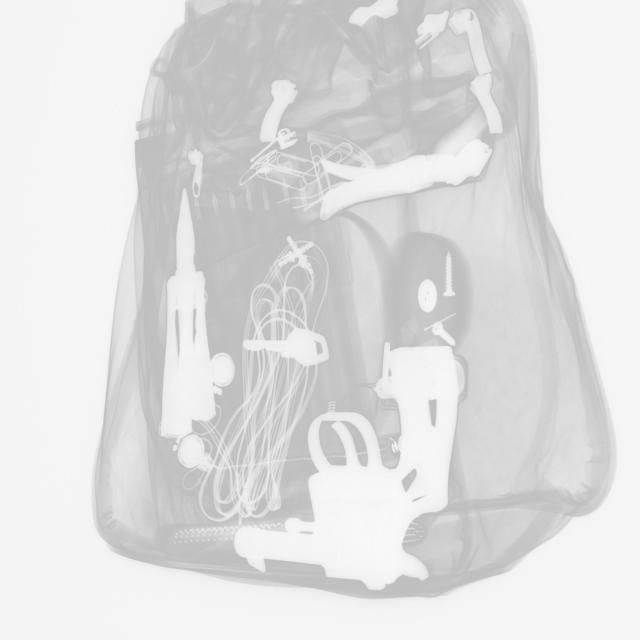knife: (160, 191, 213, 443)
pistol: (234, 345, 461, 591)
